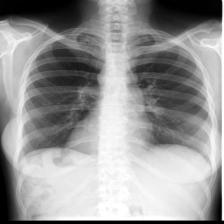tuberculosis: (12, 24, 215, 188)
